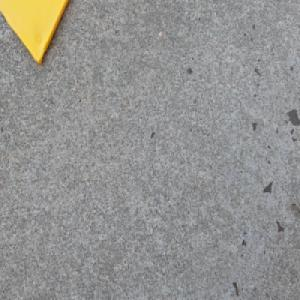PlasticPart: (0, 0, 70, 64)
